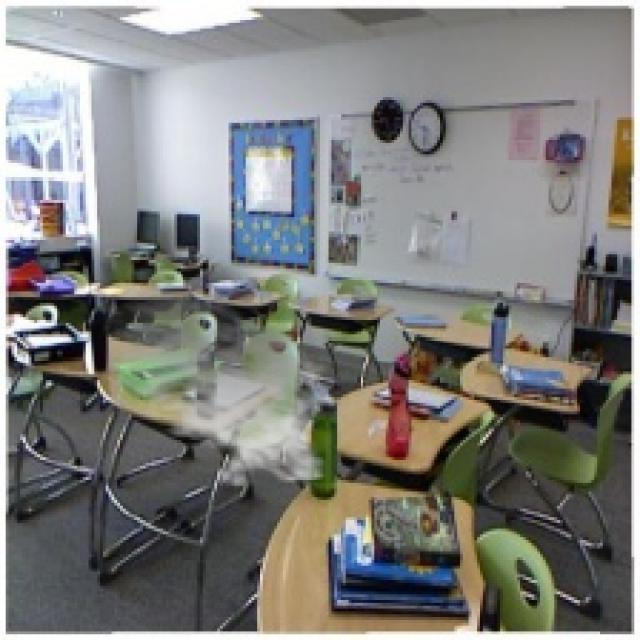smoke: (100, 283, 340, 488)
